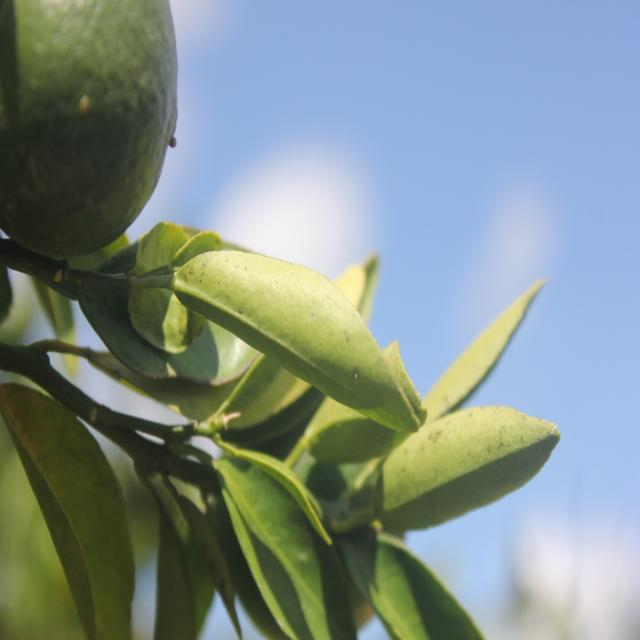melanose: (171, 244, 423, 432), (354, 401, 563, 536)
